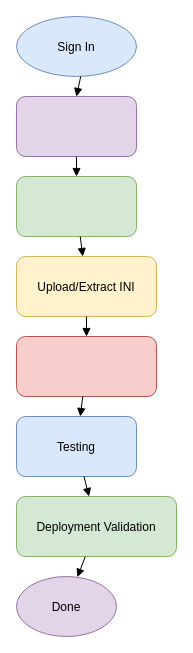
The diagram is 193 pixels wide and 653 high, and some of its shapes have lost their labels. Each missing label, with the box of its shape:
Create Package: (16, 176, 136, 236)
Dashboard: (16, 96, 136, 156)
Post Configuration: (16, 336, 156, 396)
